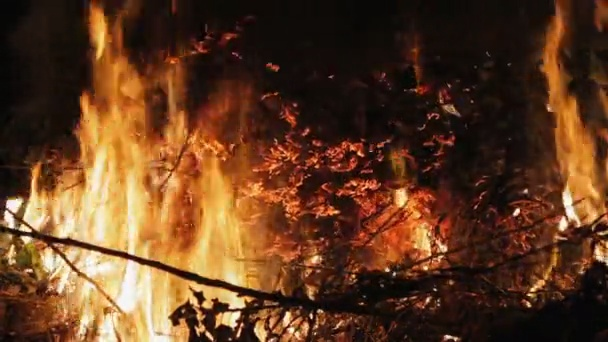fire: (5, 12, 253, 340), (542, 7, 608, 259)
